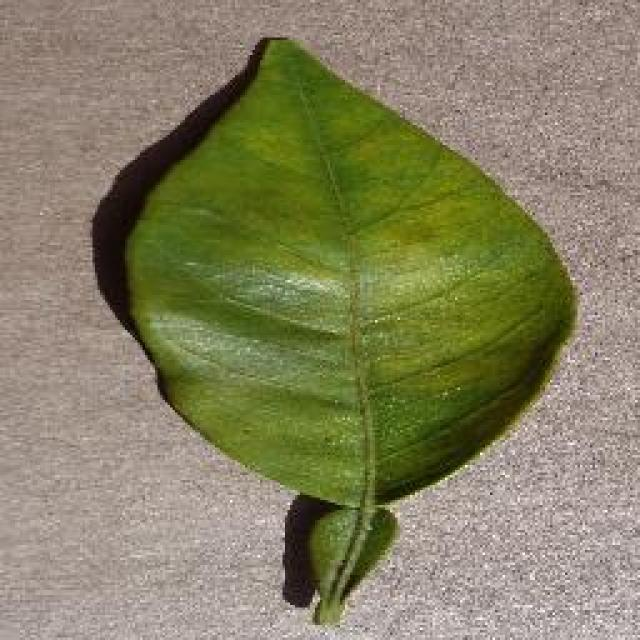Orange_Haunglongbing_Citrus_greening: (168, 114, 552, 444)
